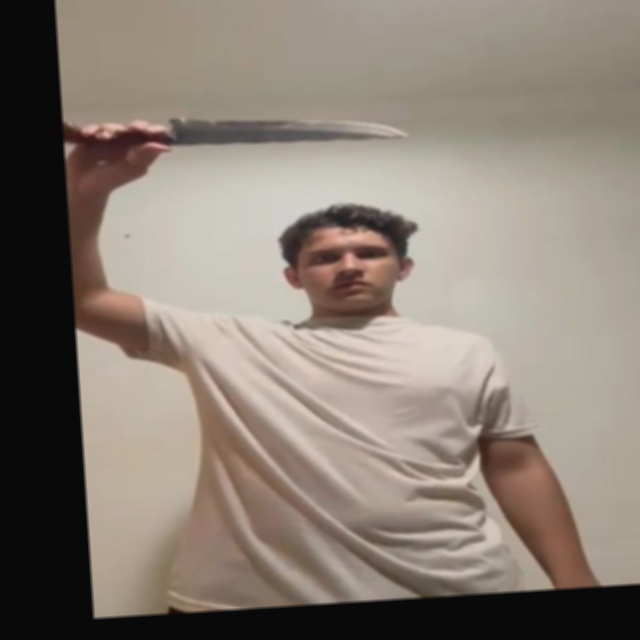Sharp-Object: (172, 100, 408, 154)
